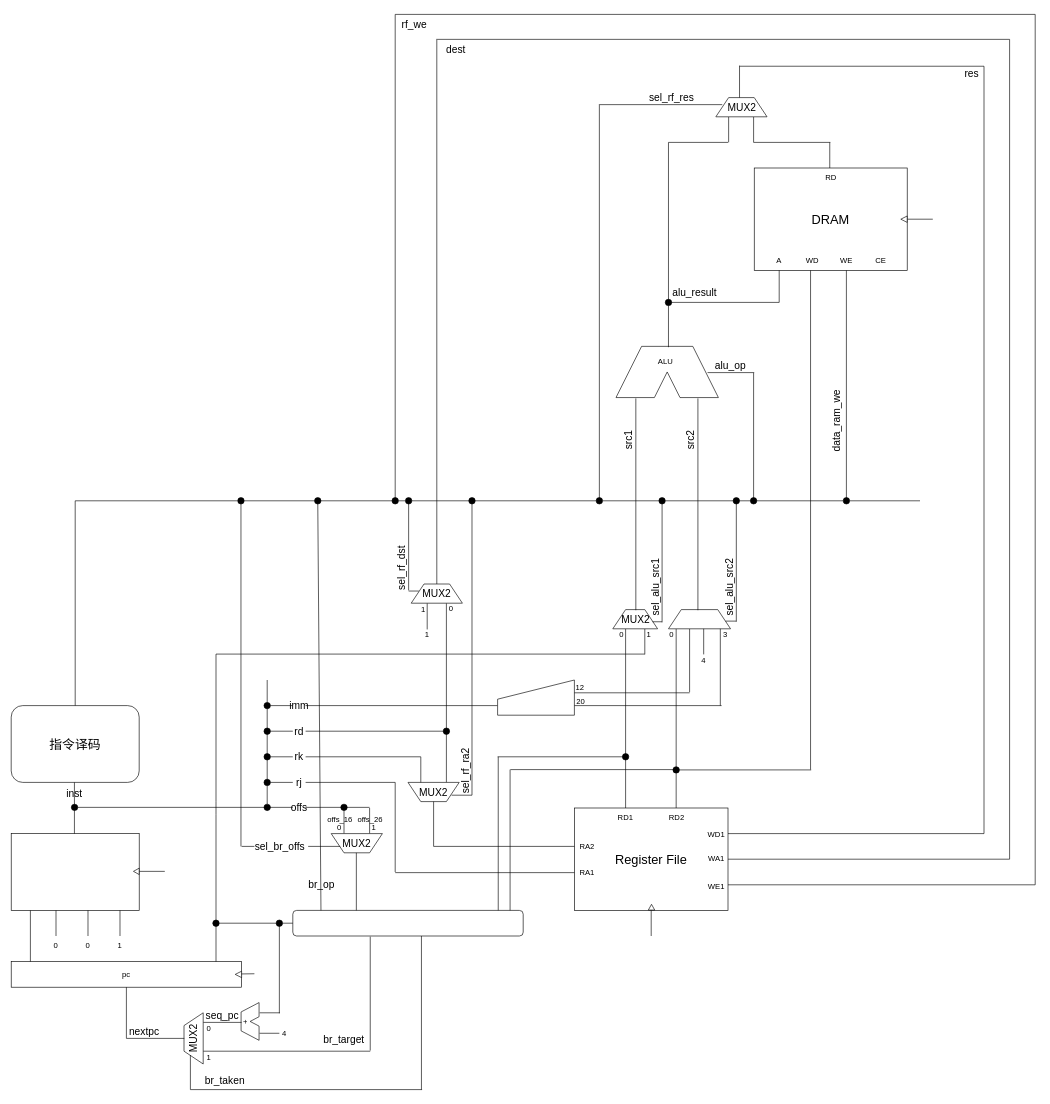
Image size: 1050x1104. Some labels were removed from this diagram. The centre of each missing label's shape, as x and y in pixels:
"br unit" belongs at point 407,923.
"MUX4" belongs at point 699,619.
"RD IRAM A WD WE CE" belongs at point 75,871.
"符号扩展" belongs at point 535,697.
